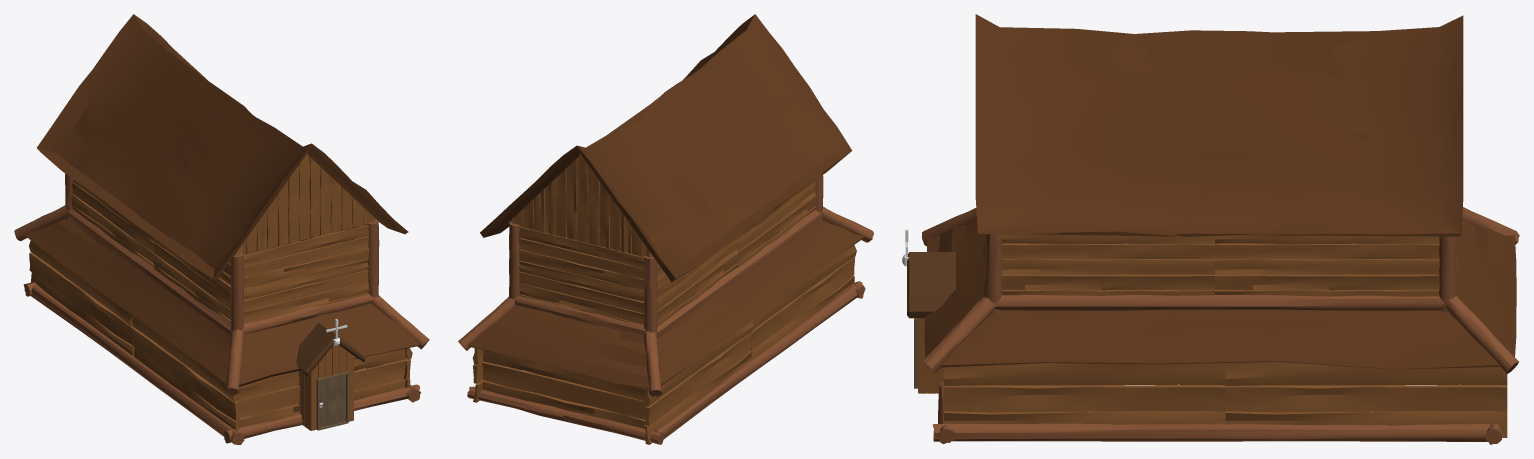
File: Church.fbx
The picture shows the model from 3 angles, left to right: view 1: azimuth 30°, elevation 25°; view 2: azimuth 150°, elevation 25°; view 3: azimuth 270°, elevation 25°; orthographic projection. The views are drawn at different scales.
Parts seen in each view (by area): view 1: Plane.001, Plane, Cube.002, Cube.003, Cube.005, Cube.004, Cube, Cylinder, Cube.006, Cylinder.004, Cylinder.002, Cylinder.003 (+3 smaller); view 2: Plane.001, Plane, Cube.002, Cube.003, Cube, Cube.005, Cube.004, Cylinder, Cylinder.004, Cylinder.003, Cylinder.002, Cylinder.001; view 3: Plane.001, Plane, Cube.002, Cube.004, Cylinder.004, Cylinder, Cylinder.002, Cube.006, Cylinder.003.
Boxes of the visible parts, x1,y1,x2,y2 form: Plane.001: (37, 14, 408, 279); Plane: (24, 218, 419, 386); Cube.002: (29, 240, 412, 430); Cube.003: (243, 225, 369, 323); Cube.005: (235, 153, 373, 254); Cube.004: (71, 179, 365, 322); Cube: (237, 349, 405, 427); Cylinder: (14, 173, 429, 395); Cube.006: (296, 323, 365, 430); Cylinder.004: (31, 284, 420, 444); Cylinder.002: (66, 209, 300, 336); Cylinder.003: (23, 282, 421, 443); Plane.001: (480, 14, 852, 282); Plane: (467, 220, 864, 388); Cube.002: (472, 245, 856, 444); Cube.003: (518, 227, 644, 324); Cube: (482, 350, 646, 428); Cube.005: (511, 153, 653, 257); Cube.004: (534, 180, 816, 326); Cylinder: (458, 175, 873, 396); Cylinder.004: (513, 281, 865, 439); Cylinder.003: (467, 285, 864, 444); Cylinder.002: (656, 209, 822, 337); Cylinder.001: (514, 296, 649, 336); Plane.001: (975, 14, 1463, 236); Plane: (924, 219, 1516, 369); Cube.002: (944, 362, 1507, 437); Cube.004: (1001, 234, 1439, 296); Cylinder.004: (932, 423, 1489, 441); Cylinder: (921, 207, 1519, 374); Cylinder.002: (994, 295, 1443, 310); Cube.006: (907, 252, 955, 393); Cylinder.003: (937, 382, 1502, 444).
Size of the model in its own units: 562 by 734 by 1082.
